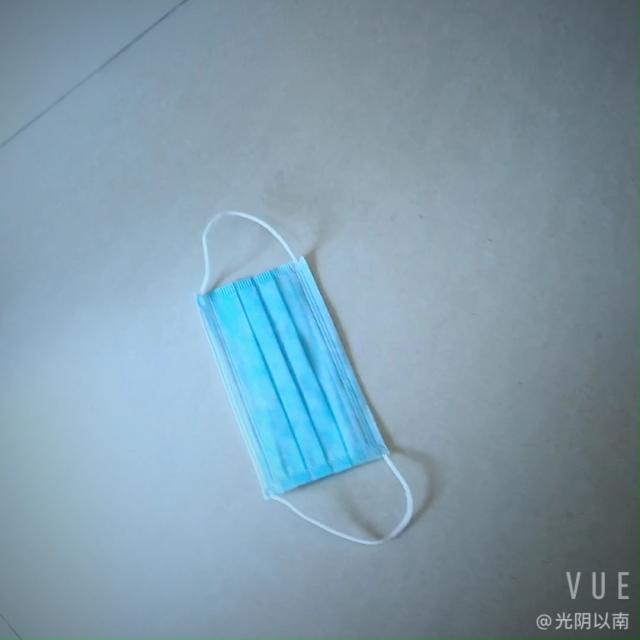face mask: (206, 258, 393, 481)
